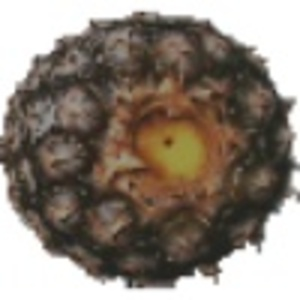abacaxi: (1, 9, 293, 280)
